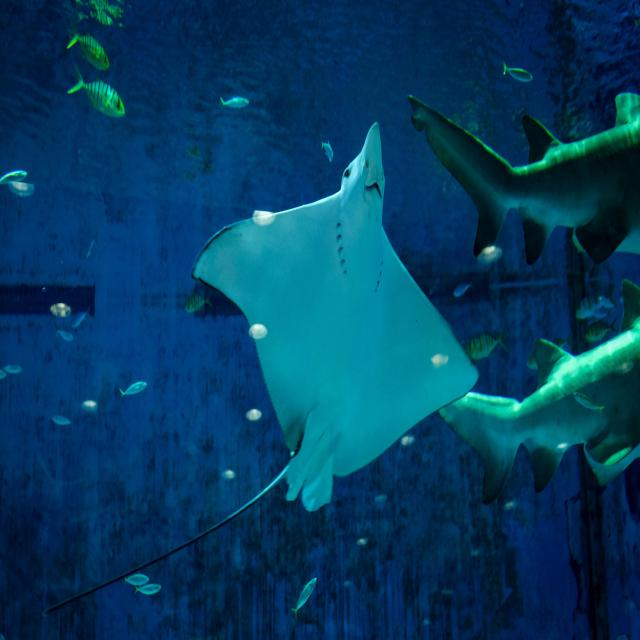stingray: (43, 123, 478, 615)
